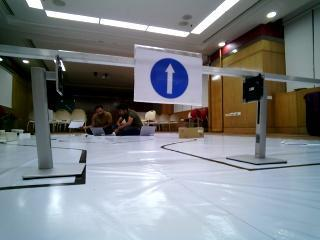straight: (134, 49, 204, 106)
